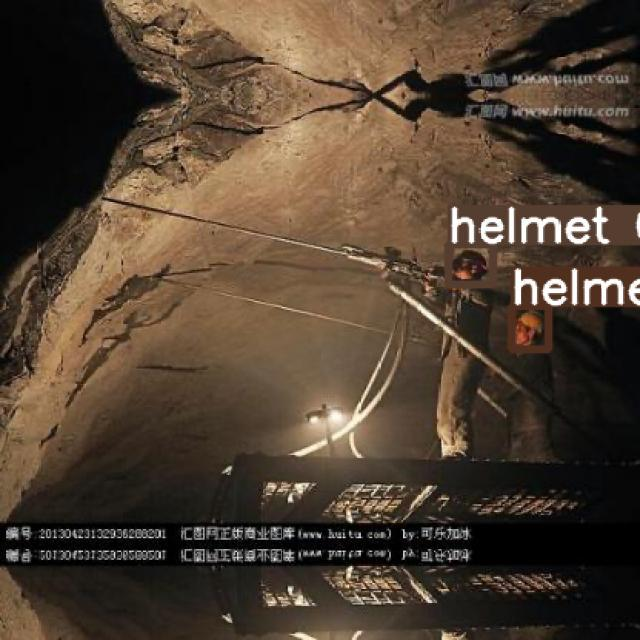Helmet: (450, 249, 488, 281)
